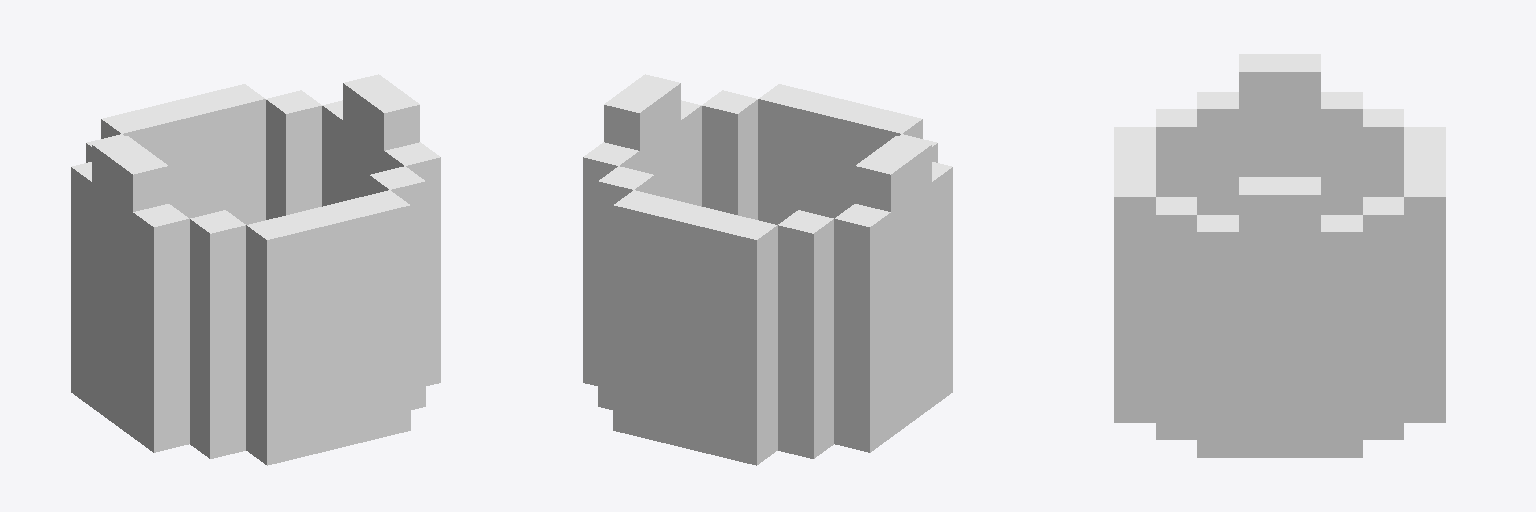
The model's file is PotLarge.obj.
The picture shows the model from 3 angles: view 1: azimuth 30°, elevation 25°; view 2: azimuth 150°, elevation 25°; view 3: azimuth 270°, elevation 25°; orthographic projection.
Visible parts, largest first — view 1: PotLarge; view 2: PotLarge; view 3: PotLarge.
Part boxes in pixels (bbox=[...]): PotLarge: bbox=[71, 74, 440, 465]; PotLarge: bbox=[583, 74, 952, 465]; PotLarge: bbox=[1114, 54, 1445, 457].
Bounding box in the file's own units: 8 × 7 × 8.